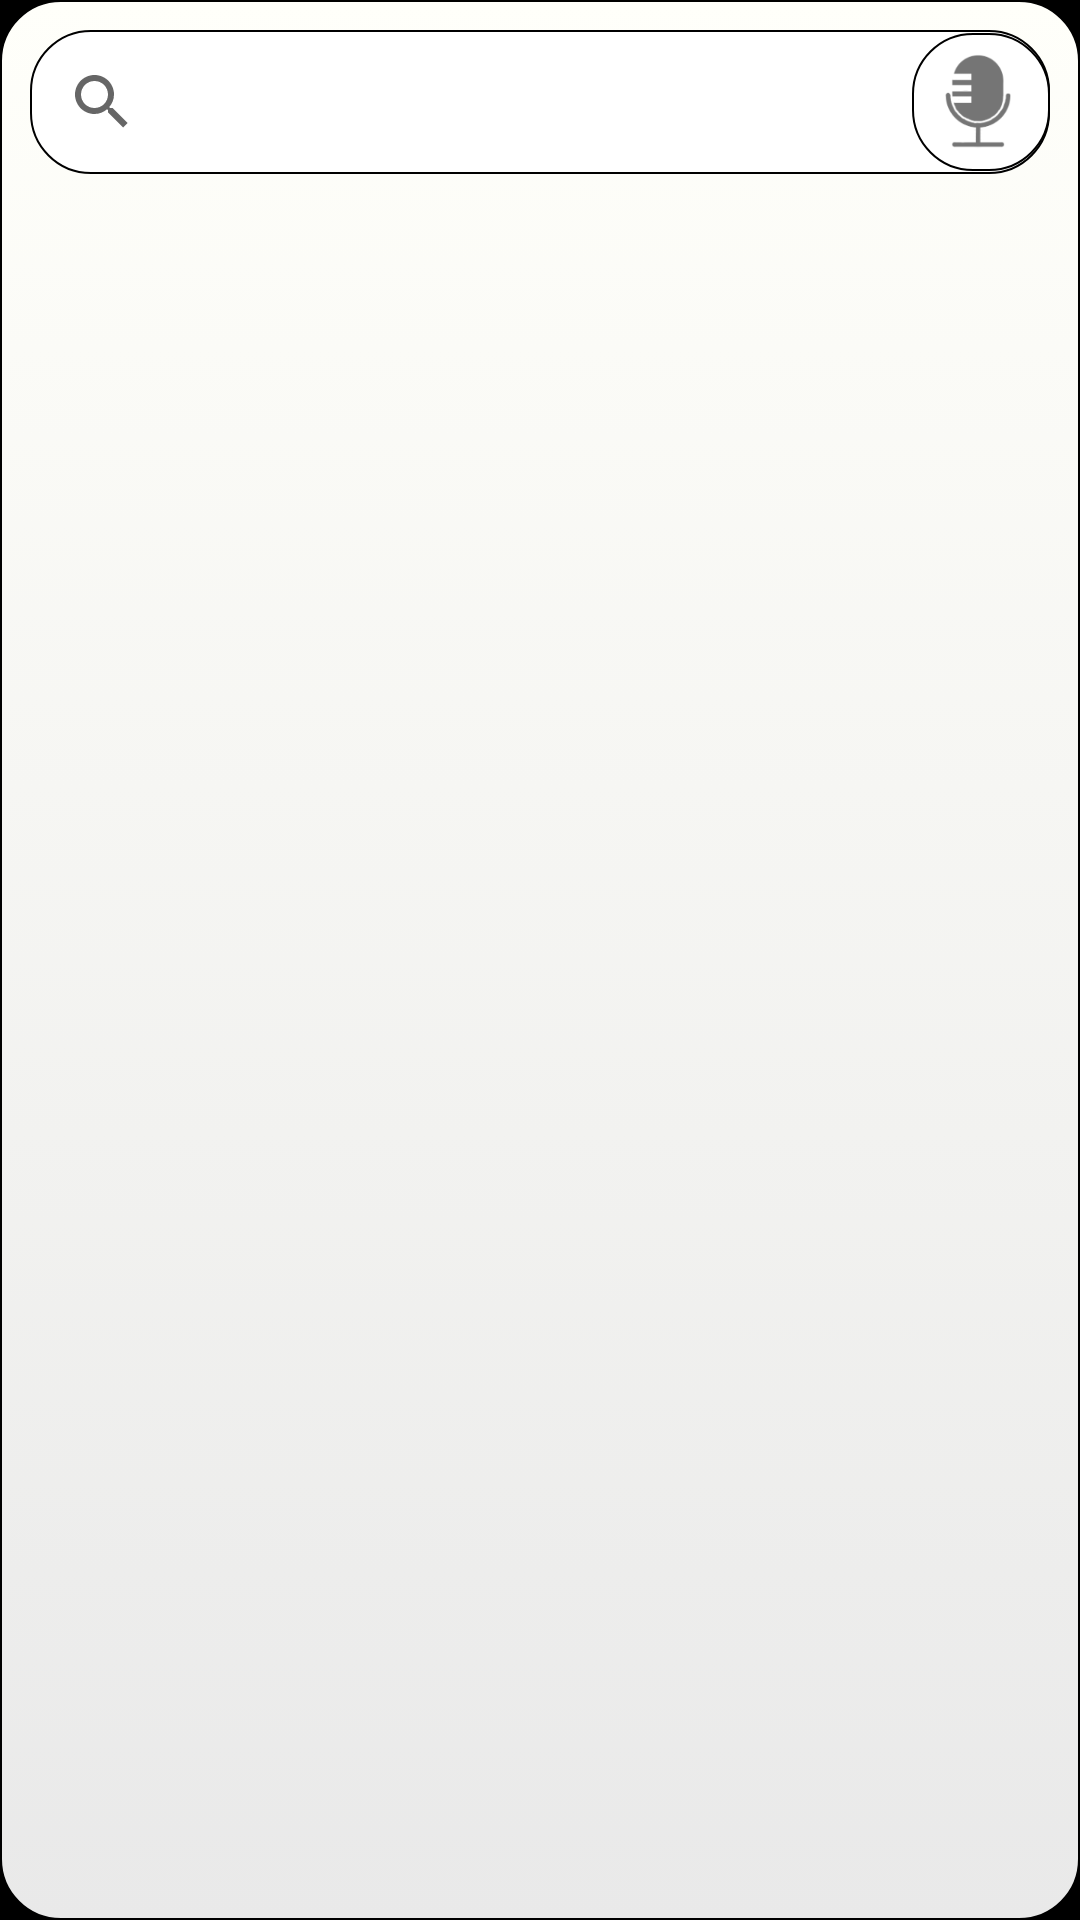

Where to tap for icons on this 1080 × 1920 app screen, as point (x, y):
microphone: point (978, 101)
